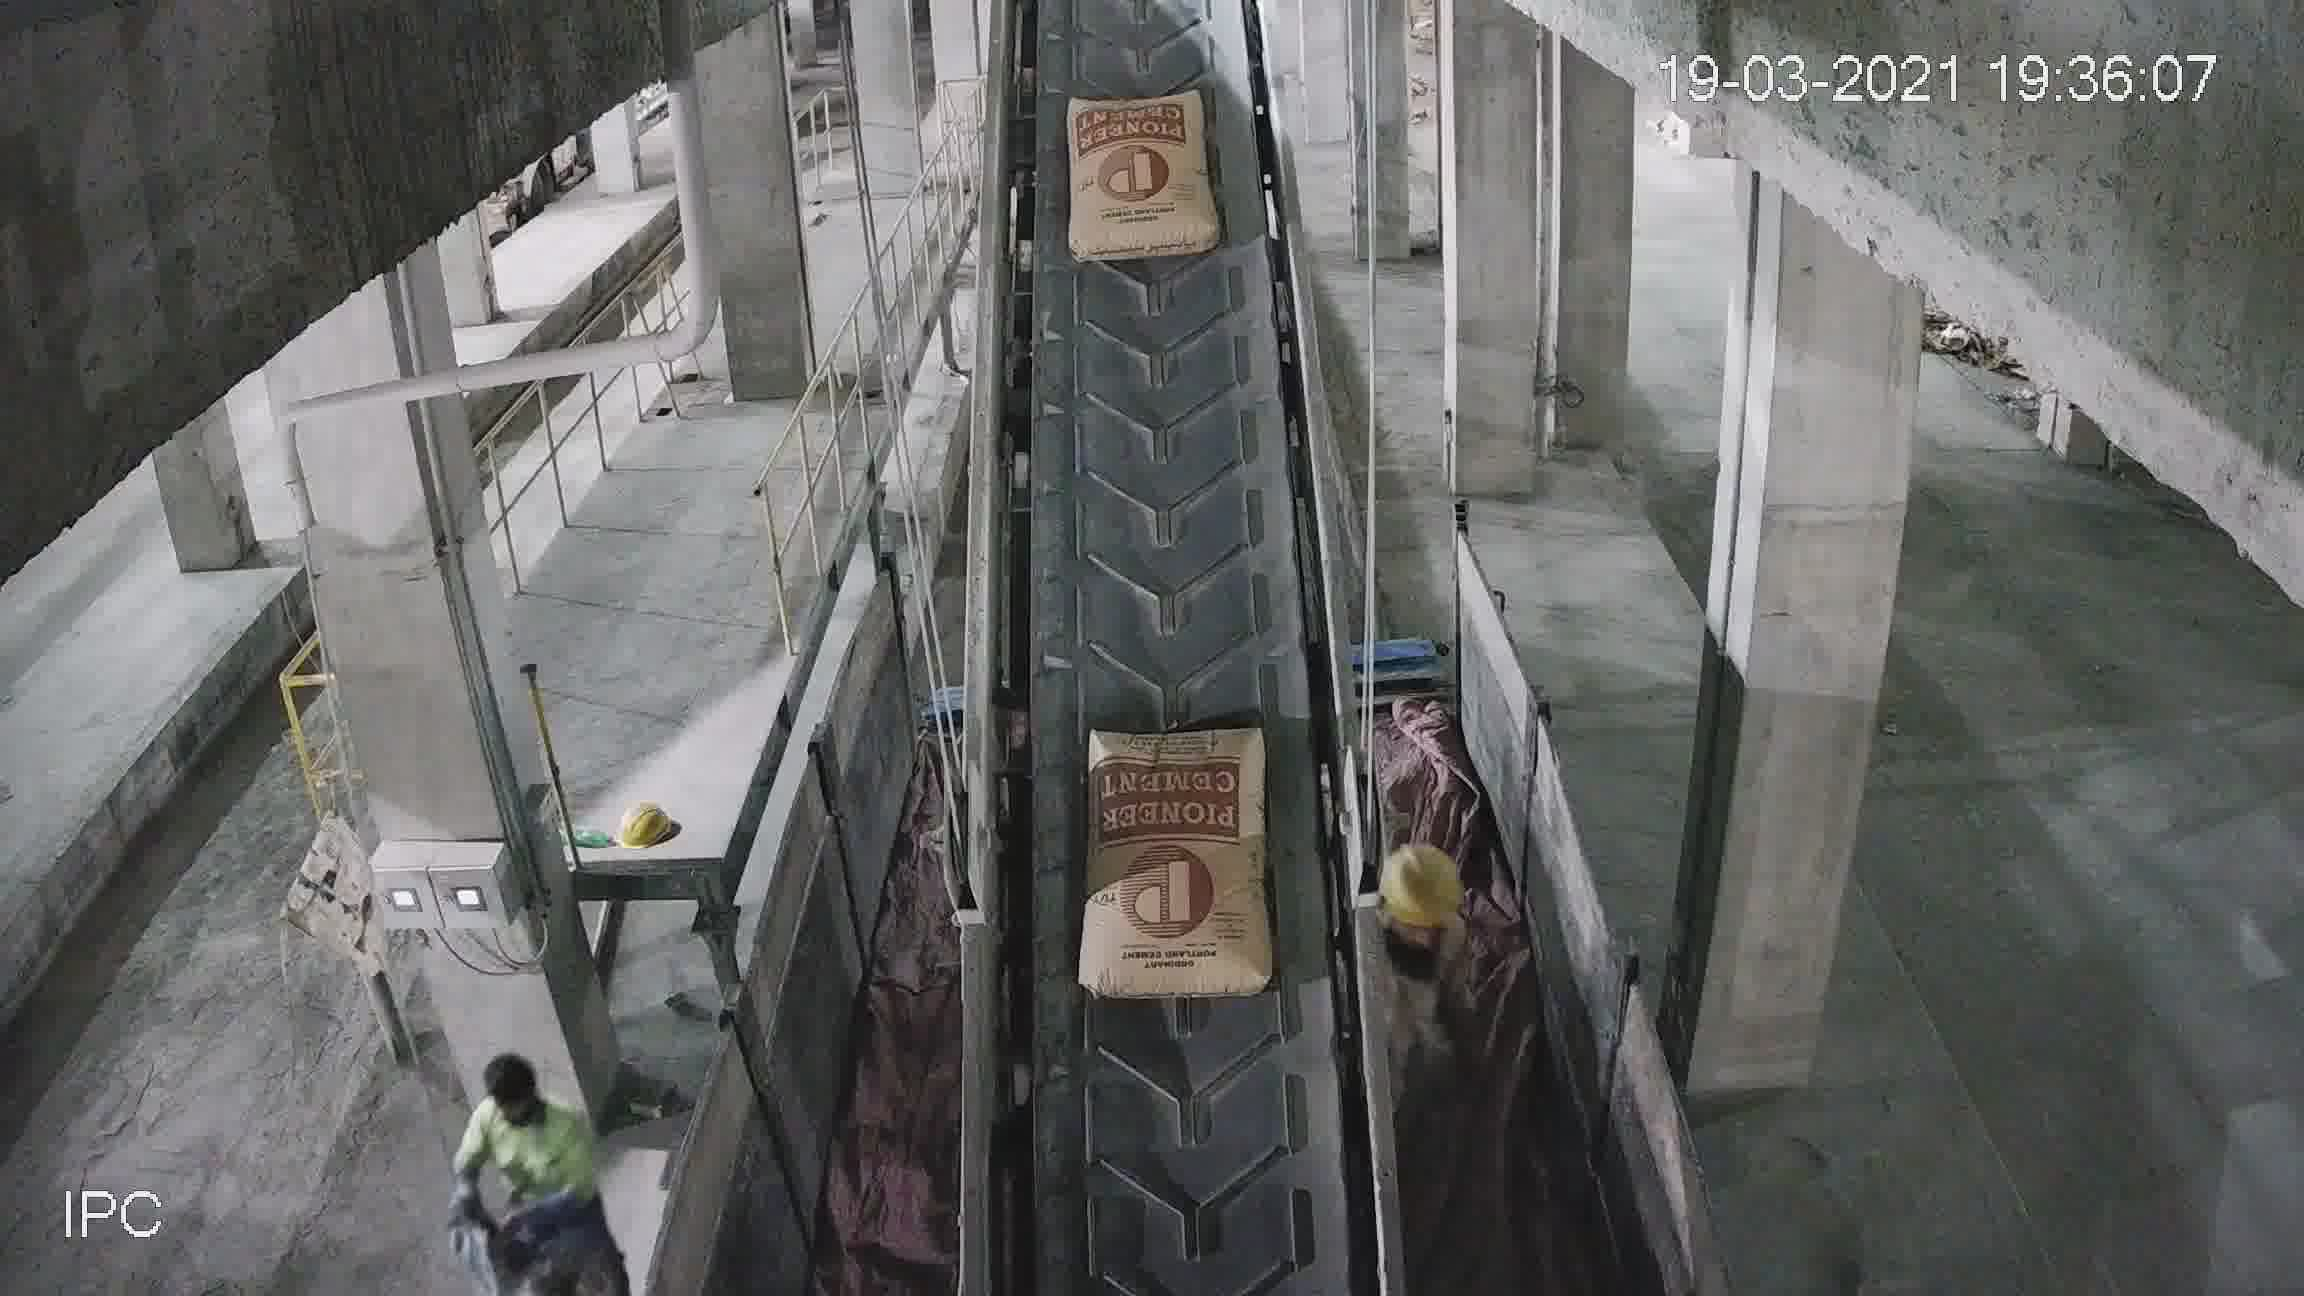bag: (1084, 741, 1271, 1003), (1067, 93, 1214, 263)
belt: (967, 32, 1378, 1296)
